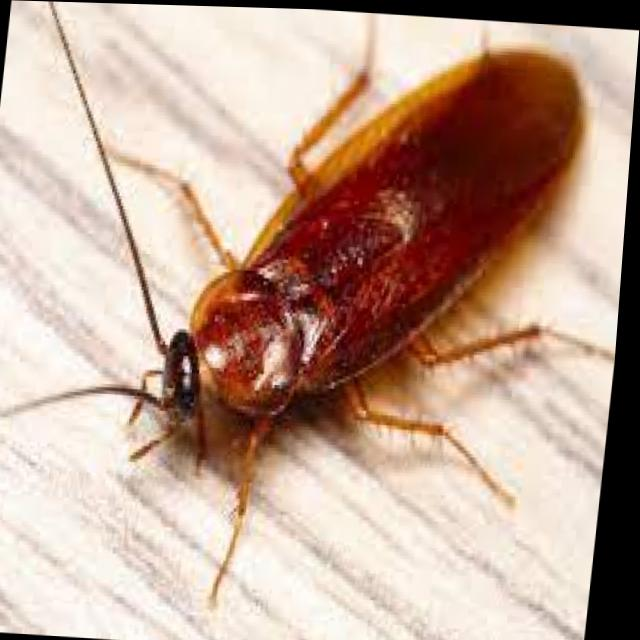Cockroach: (0, 0, 640, 639)
